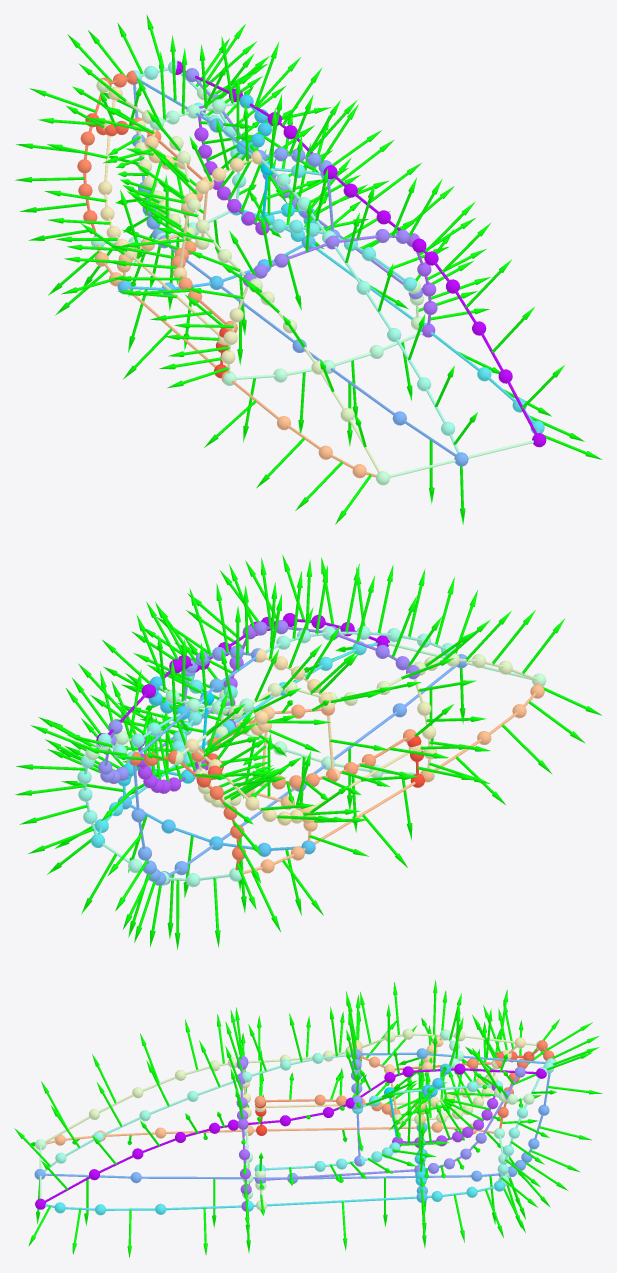
File: t2f_hand_vacuum.gltf
3 views of the same model, one above another, from view 1: azimuth 30°, elevation 25°; view 2: azimuth 150°, elevation 25°; view 3: azimuth 270°, elevation 25° (orthographic). The views are drawn at different scales.
Size of the model in its own units: 0.5218 by 0.4443 by 1.05.
